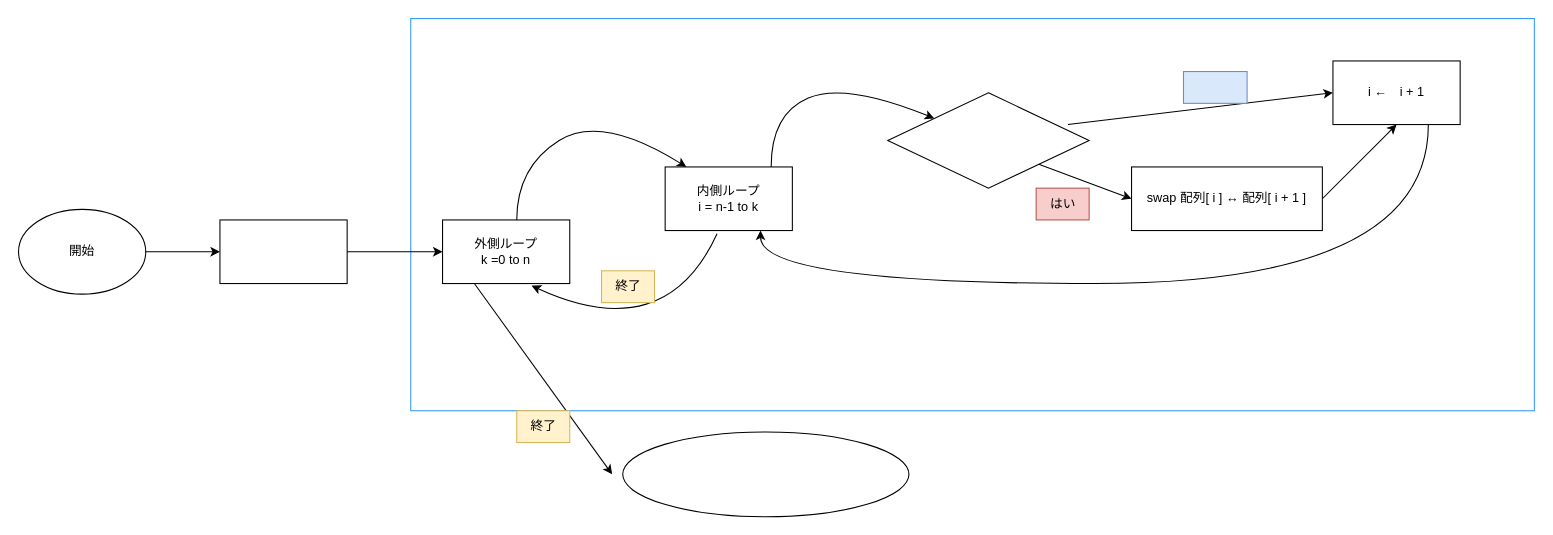
This 1553x535 diagram has some shape labels left out. Here are the shapes that lost their labels. From the top down, the centre of each, then its label:
At point (1214, 86): "いいえ".
At point (988, 140): "配列[ i ] > 配列[ i + 1 ] ?".
At point (283, 251): "n ← 配列の長さ".
At point (765, 474): "完了 ソート済の配列を返す".
